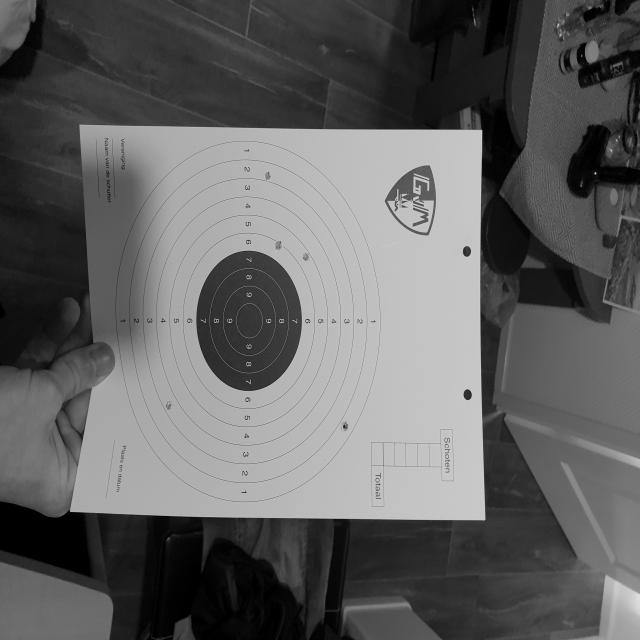1: (341, 421, 349, 432)
3: (264, 171, 272, 183), (165, 400, 173, 410)
5: (302, 251, 310, 264)
6: (274, 239, 283, 253)
Target: (116, 142, 382, 505)
black_contour: (196, 252, 302, 392)
